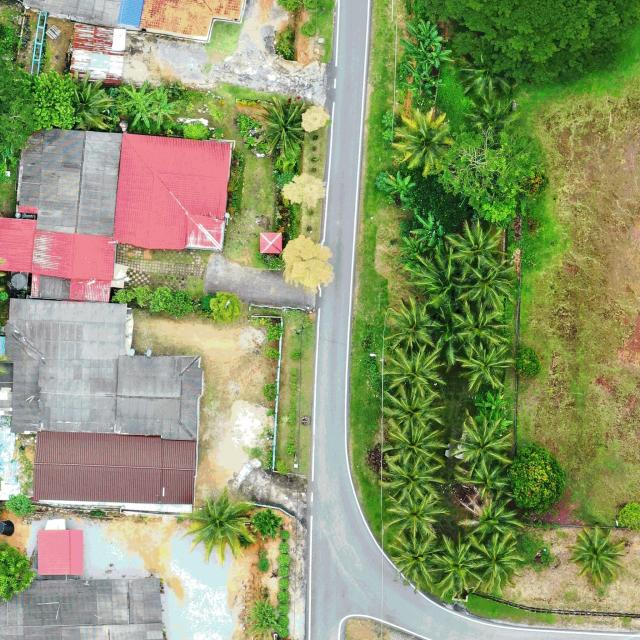Tree: (411, 0, 640, 90), (175, 485, 257, 565), (406, 246, 472, 323), (391, 108, 455, 176), (510, 441, 567, 512), (454, 412, 516, 473), (468, 530, 528, 592), (385, 526, 441, 591), (567, 525, 628, 584), (384, 343, 445, 400), (463, 90, 521, 148), (456, 339, 514, 395), (450, 297, 512, 349), (382, 454, 446, 504), (383, 294, 440, 350), (459, 260, 518, 313), (447, 218, 504, 272), (384, 419, 446, 468), (385, 492, 449, 539), (457, 493, 521, 539), (432, 532, 480, 593), (384, 384, 446, 431), (259, 99, 308, 157), (71, 71, 112, 130), (458, 57, 514, 99), (410, 207, 458, 254), (454, 458, 509, 499), (0, 540, 36, 602), (375, 168, 417, 204), (426, 329, 463, 369), (402, 62, 437, 96), (207, 290, 242, 324), (145, 95, 179, 129), (121, 79, 157, 111), (129, 94, 160, 128), (414, 41, 454, 66), (251, 508, 283, 539), (416, 18, 443, 52), (3, 492, 36, 518), (148, 84, 169, 110)
